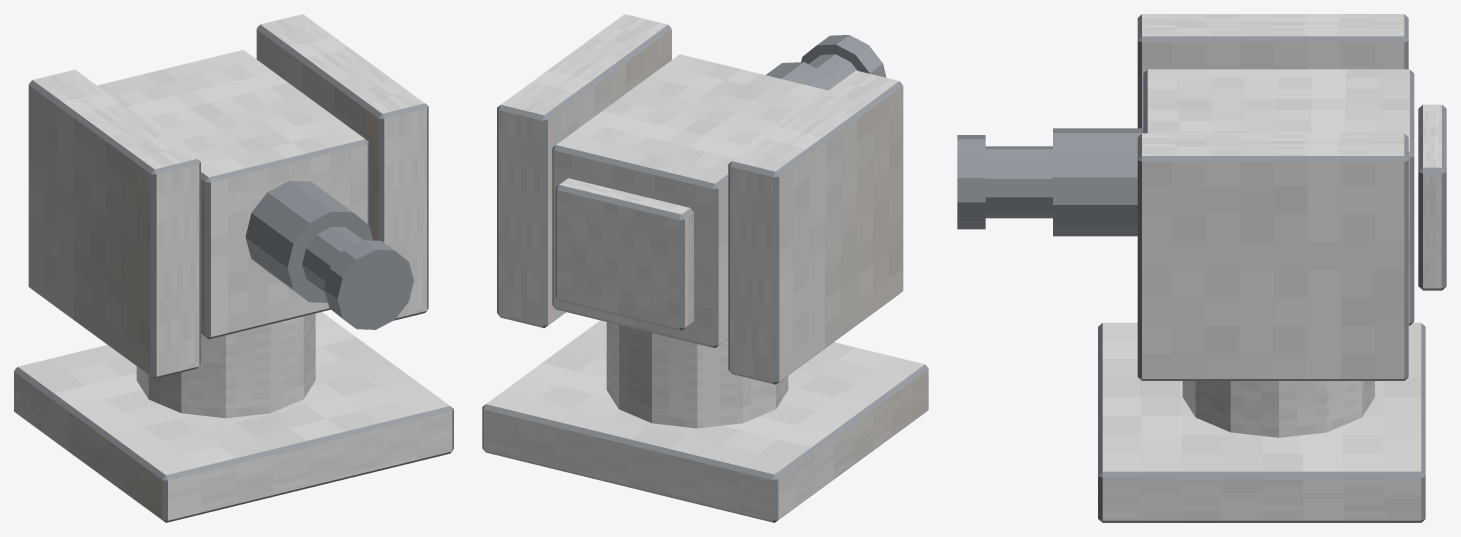
3 views of the same model, side by side, from view 1: azimuth 30°, elevation 25°; view 2: azimuth 150°, elevation 25°; view 3: azimuth 270°, elevation 25° (orthographic). The views are drawn at different scales.
Parts seen in each view (by area): view 1: cannon; view 2: cannon; view 3: cannon.
Boxes of the visible parts, box(x1,y1,x2,y2) form: cannon: box(14, 14, 453, 522); cannon: box(482, 14, 928, 522); cannon: box(957, 14, 1446, 522).
Size of the model in its own units: 0.32 by 0.355 by 0.433.
2 materials, 1 textured.
